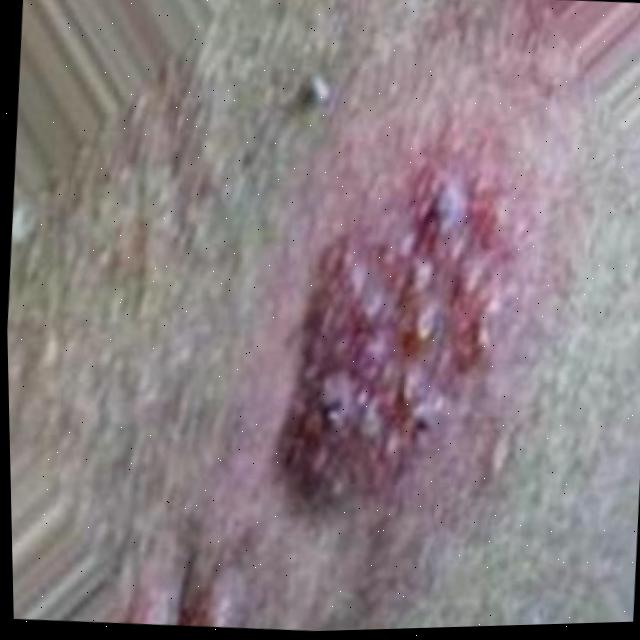Shingles: (272, 158, 524, 502)
